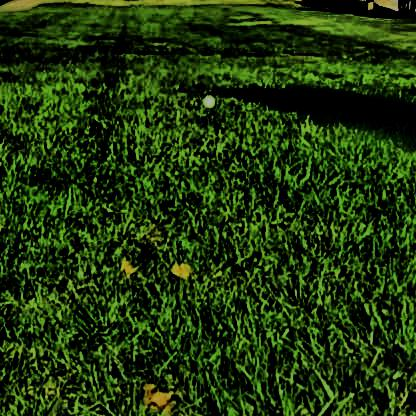golfball: (199, 93, 214, 105)
